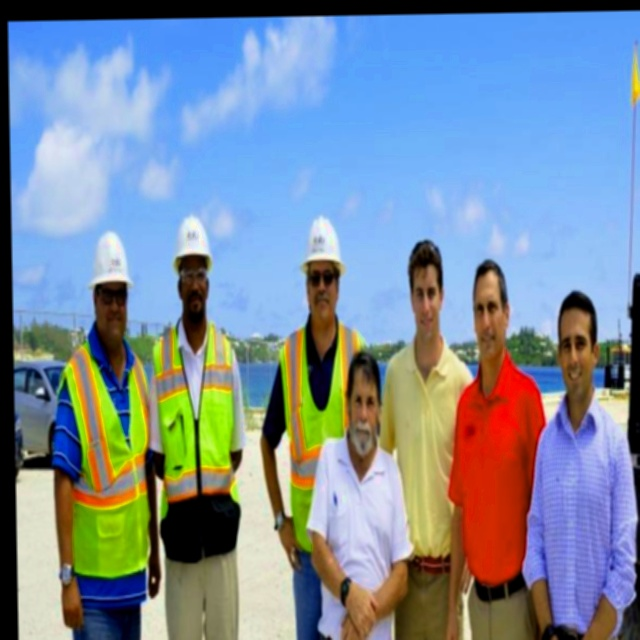Con_Casco: (303, 215, 345, 318), (176, 219, 212, 312)
Con_Chaleco: (56, 347, 148, 588), (156, 328, 235, 538)
Sin_Casco_Mascarrilla: (556, 292, 599, 399), (406, 240, 448, 329), (470, 263, 508, 357)
